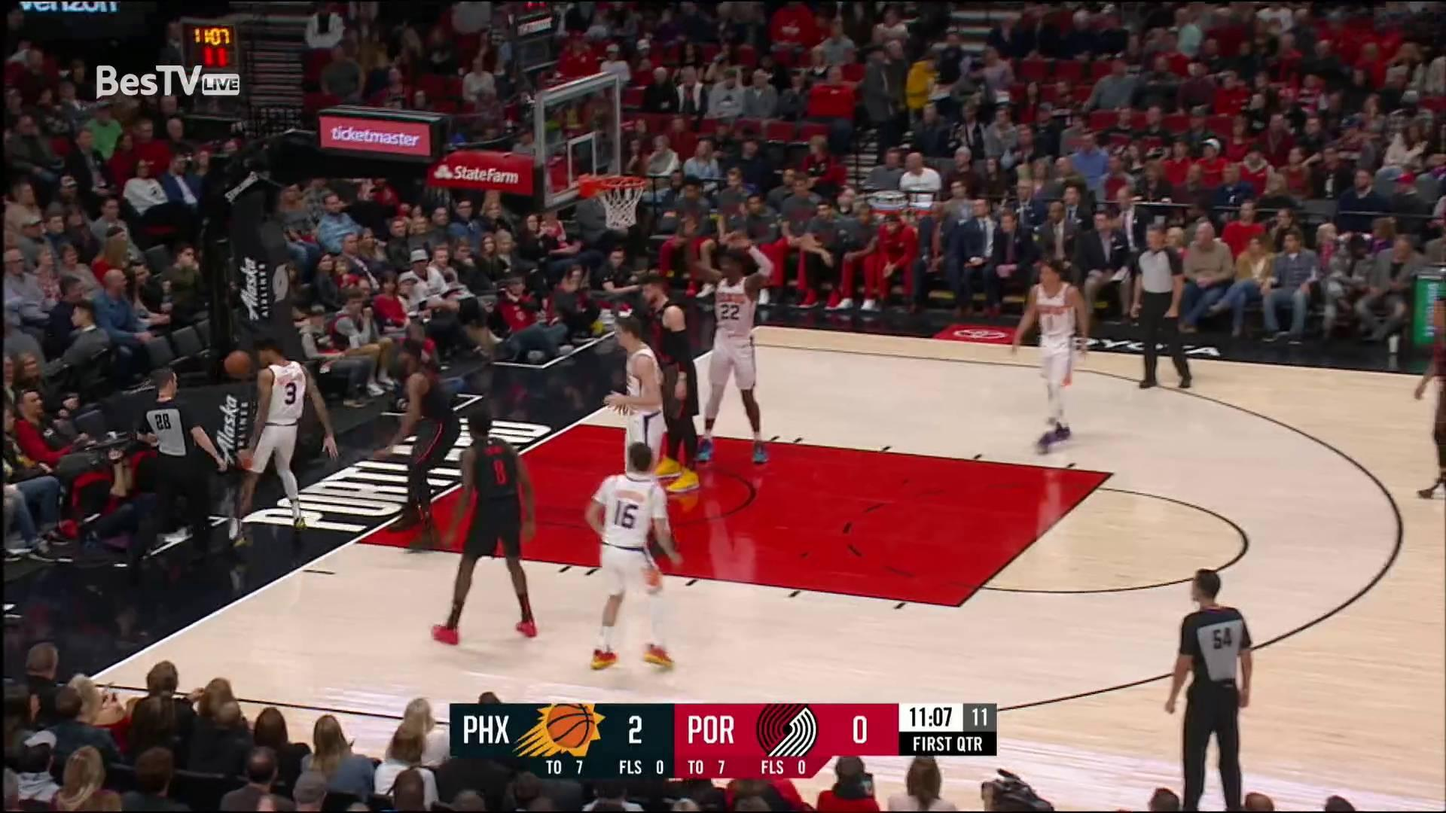basketball: (224, 352, 252, 379)
